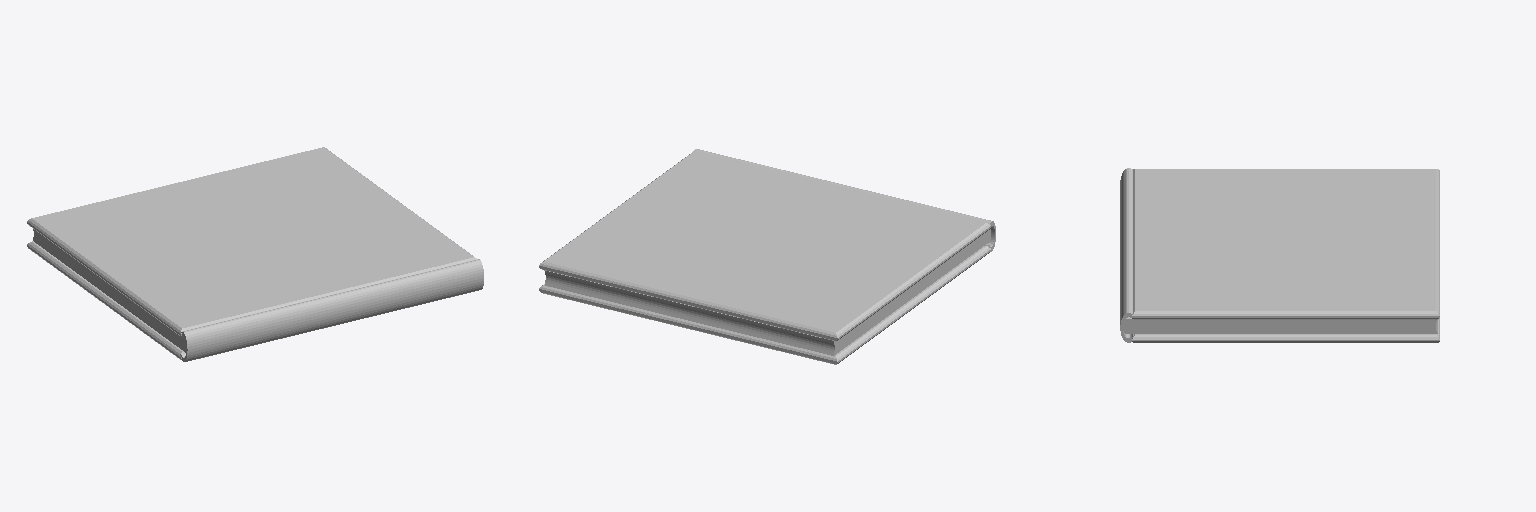
The model's file is grand_livre.obj.
3 renders of one model, left to right at view 1: azimuth 30°, elevation 25°; view 2: azimuth 150°, elevation 25°; view 3: azimuth 270°, elevation 25°, orthographic.
Parts seen in each view (by area): view 1: Cube, Cylindre, Cube.001; view 2: Cube, Cube.001, Cylindre; view 3: Cube, Cube.001, Cylindre.
Part boxes in pixels (x1,y1,x2,y2): Cube: (27, 147, 477, 359); Cylindre: (180, 259, 483, 361); Cube.001: (33, 229, 185, 352); Cube: (539, 151, 990, 364); Cube.001: (545, 229, 990, 355); Cylindre: (693, 149, 995, 251); Cube: (1132, 169, 1439, 342); Cube.001: (1123, 317, 1437, 333); Cylindre: (1120, 168, 1133, 342).
Size of the model in its own units: 0.2067 by 0.0213 by 0.1914.